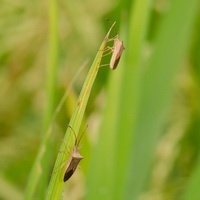insect: (64, 125, 87, 181)
